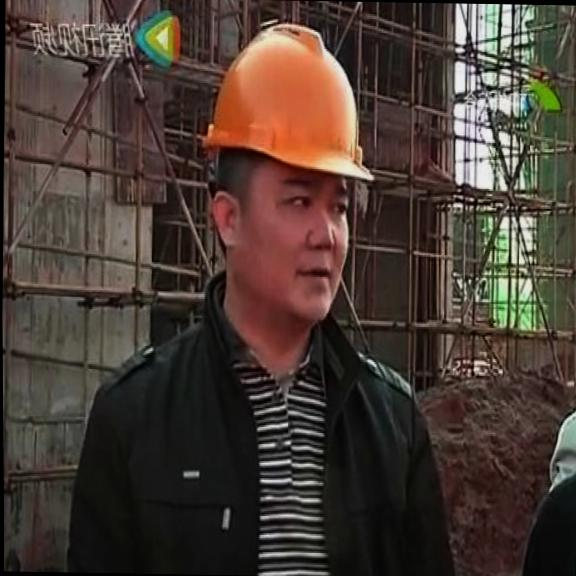no_safety_vest: (61, 323, 464, 576)
